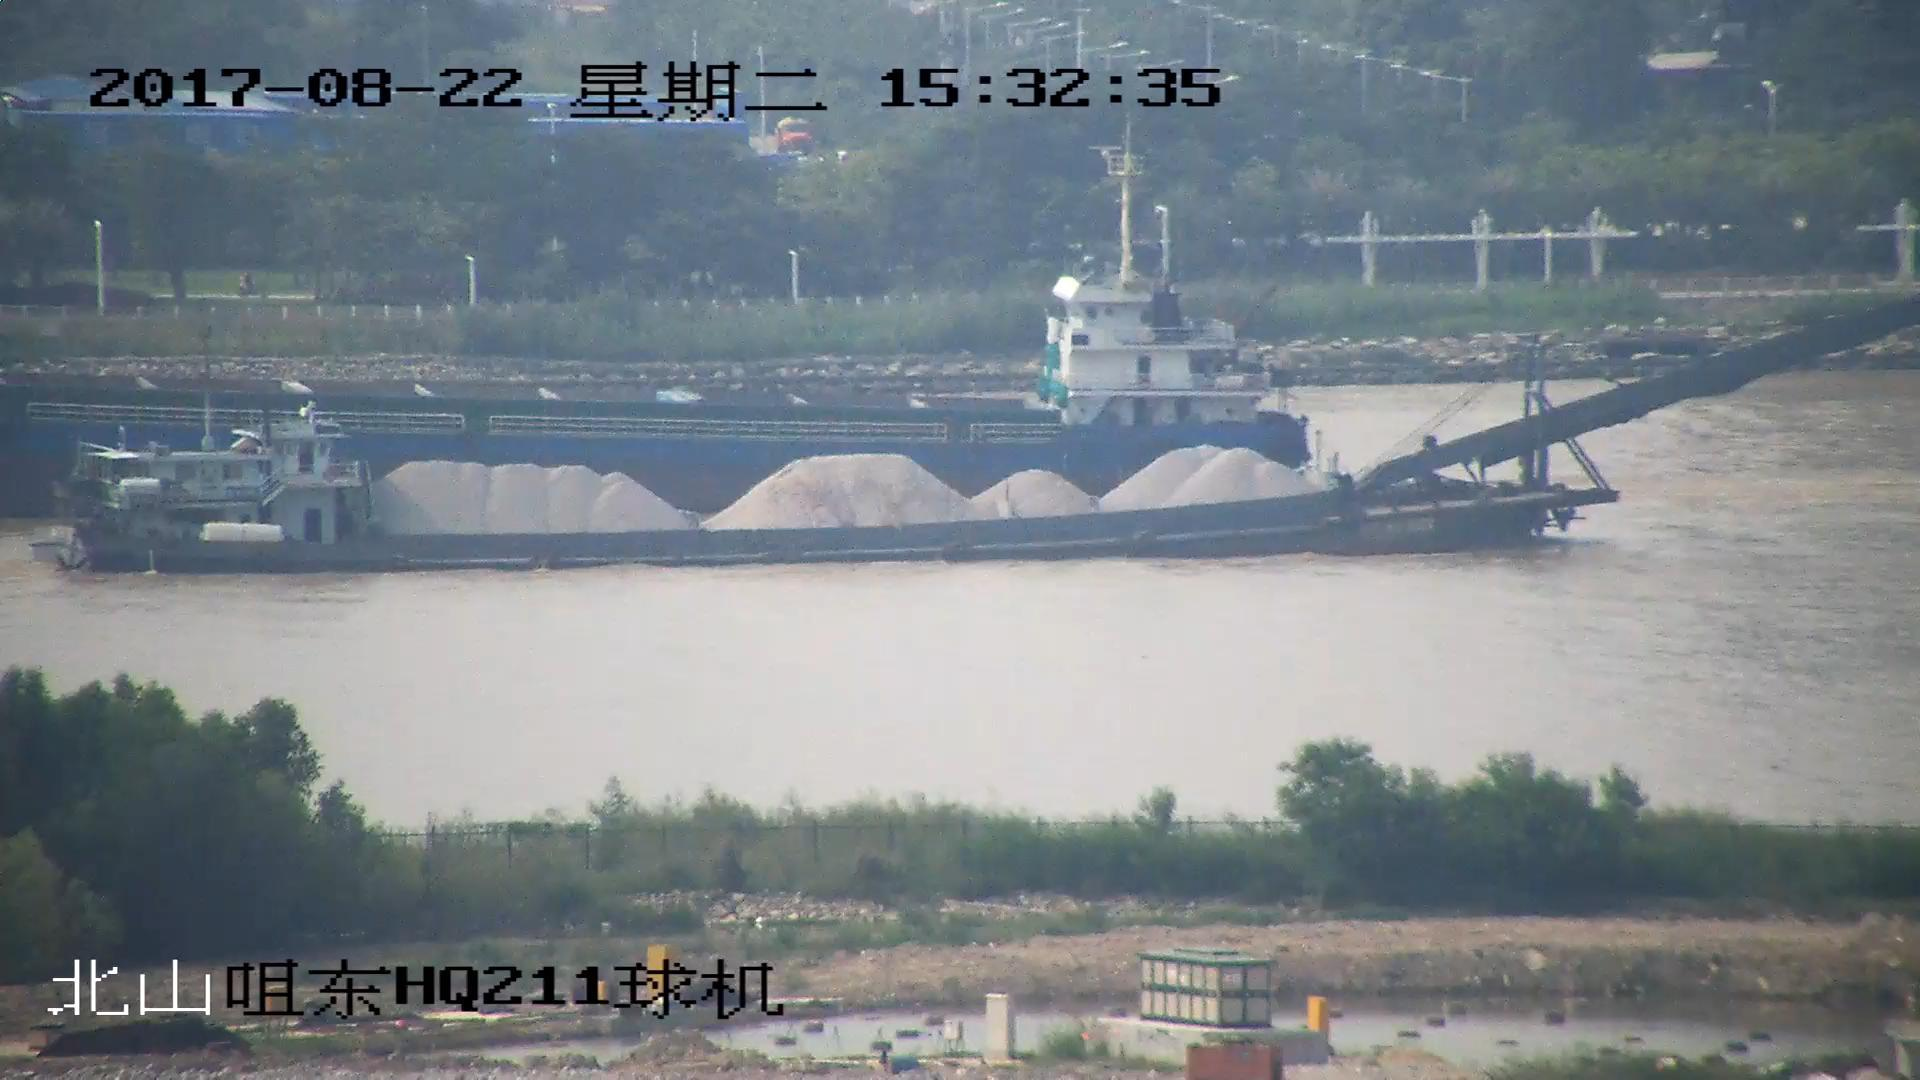Ship: (45, 295, 1920, 579), (3, 144, 1320, 483)
